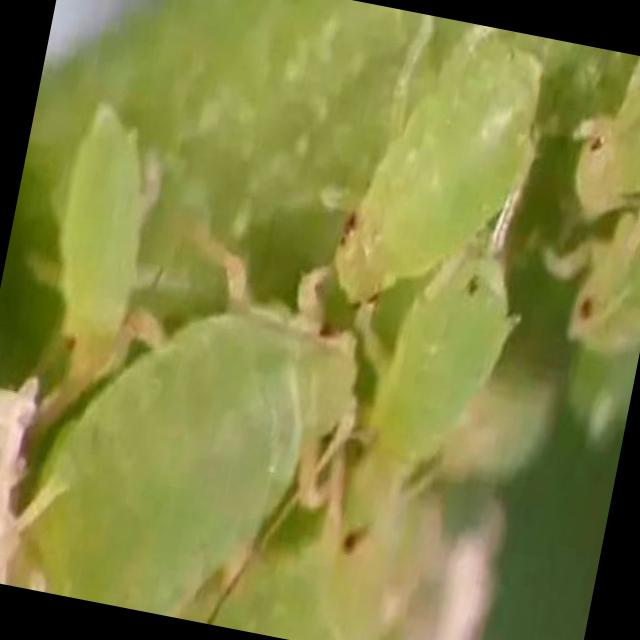aphid: (0, 241, 385, 640), (317, 16, 555, 324), (8, 67, 202, 395), (372, 250, 514, 496), (561, 48, 640, 244)
